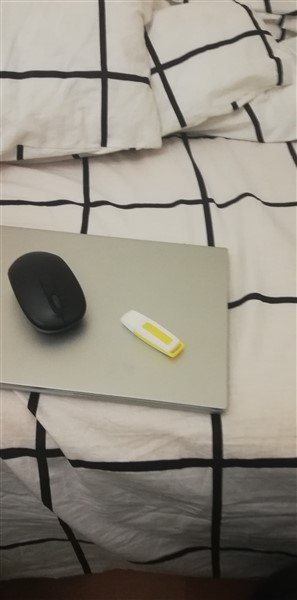flash disk: (119, 300, 193, 361)
laptop: (1, 226, 237, 413)
mouse: (9, 251, 91, 341)
